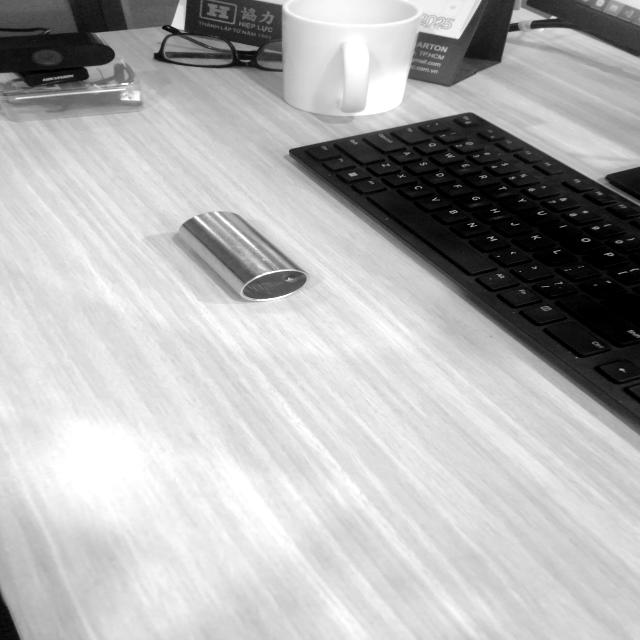Co_Lon: (171, 192, 311, 324)
